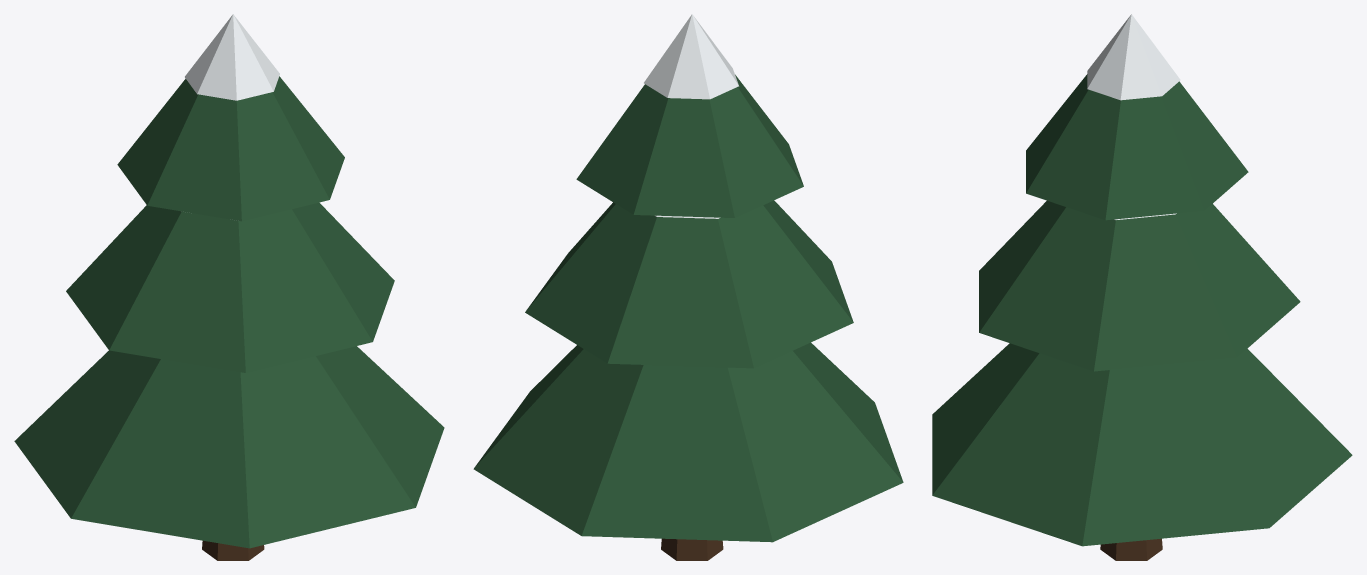
The model's file is TreePineSnow.fbx.
3 renders of one model, left to right at view 1: azimuth 30°, elevation 25°; view 2: azimuth 150°, elevation 25°; view 3: azimuth 270°, elevation 25°, orthographic.
Visible parts, largest first — view 1: TreePineSnow; view 2: TreePineSnow; view 3: TreePineSnow.
Part boxes in pixels (x1=…): TreePineSnow: x1=14, y1=14, x2=444, y2=560; TreePineSnow: x1=473, y1=14, x2=903, y2=560; TreePineSnow: x1=932, y1=14, x2=1352, y2=560.
Bounding box in the file's own units: 1.66 × 2.27 × 1.62.
